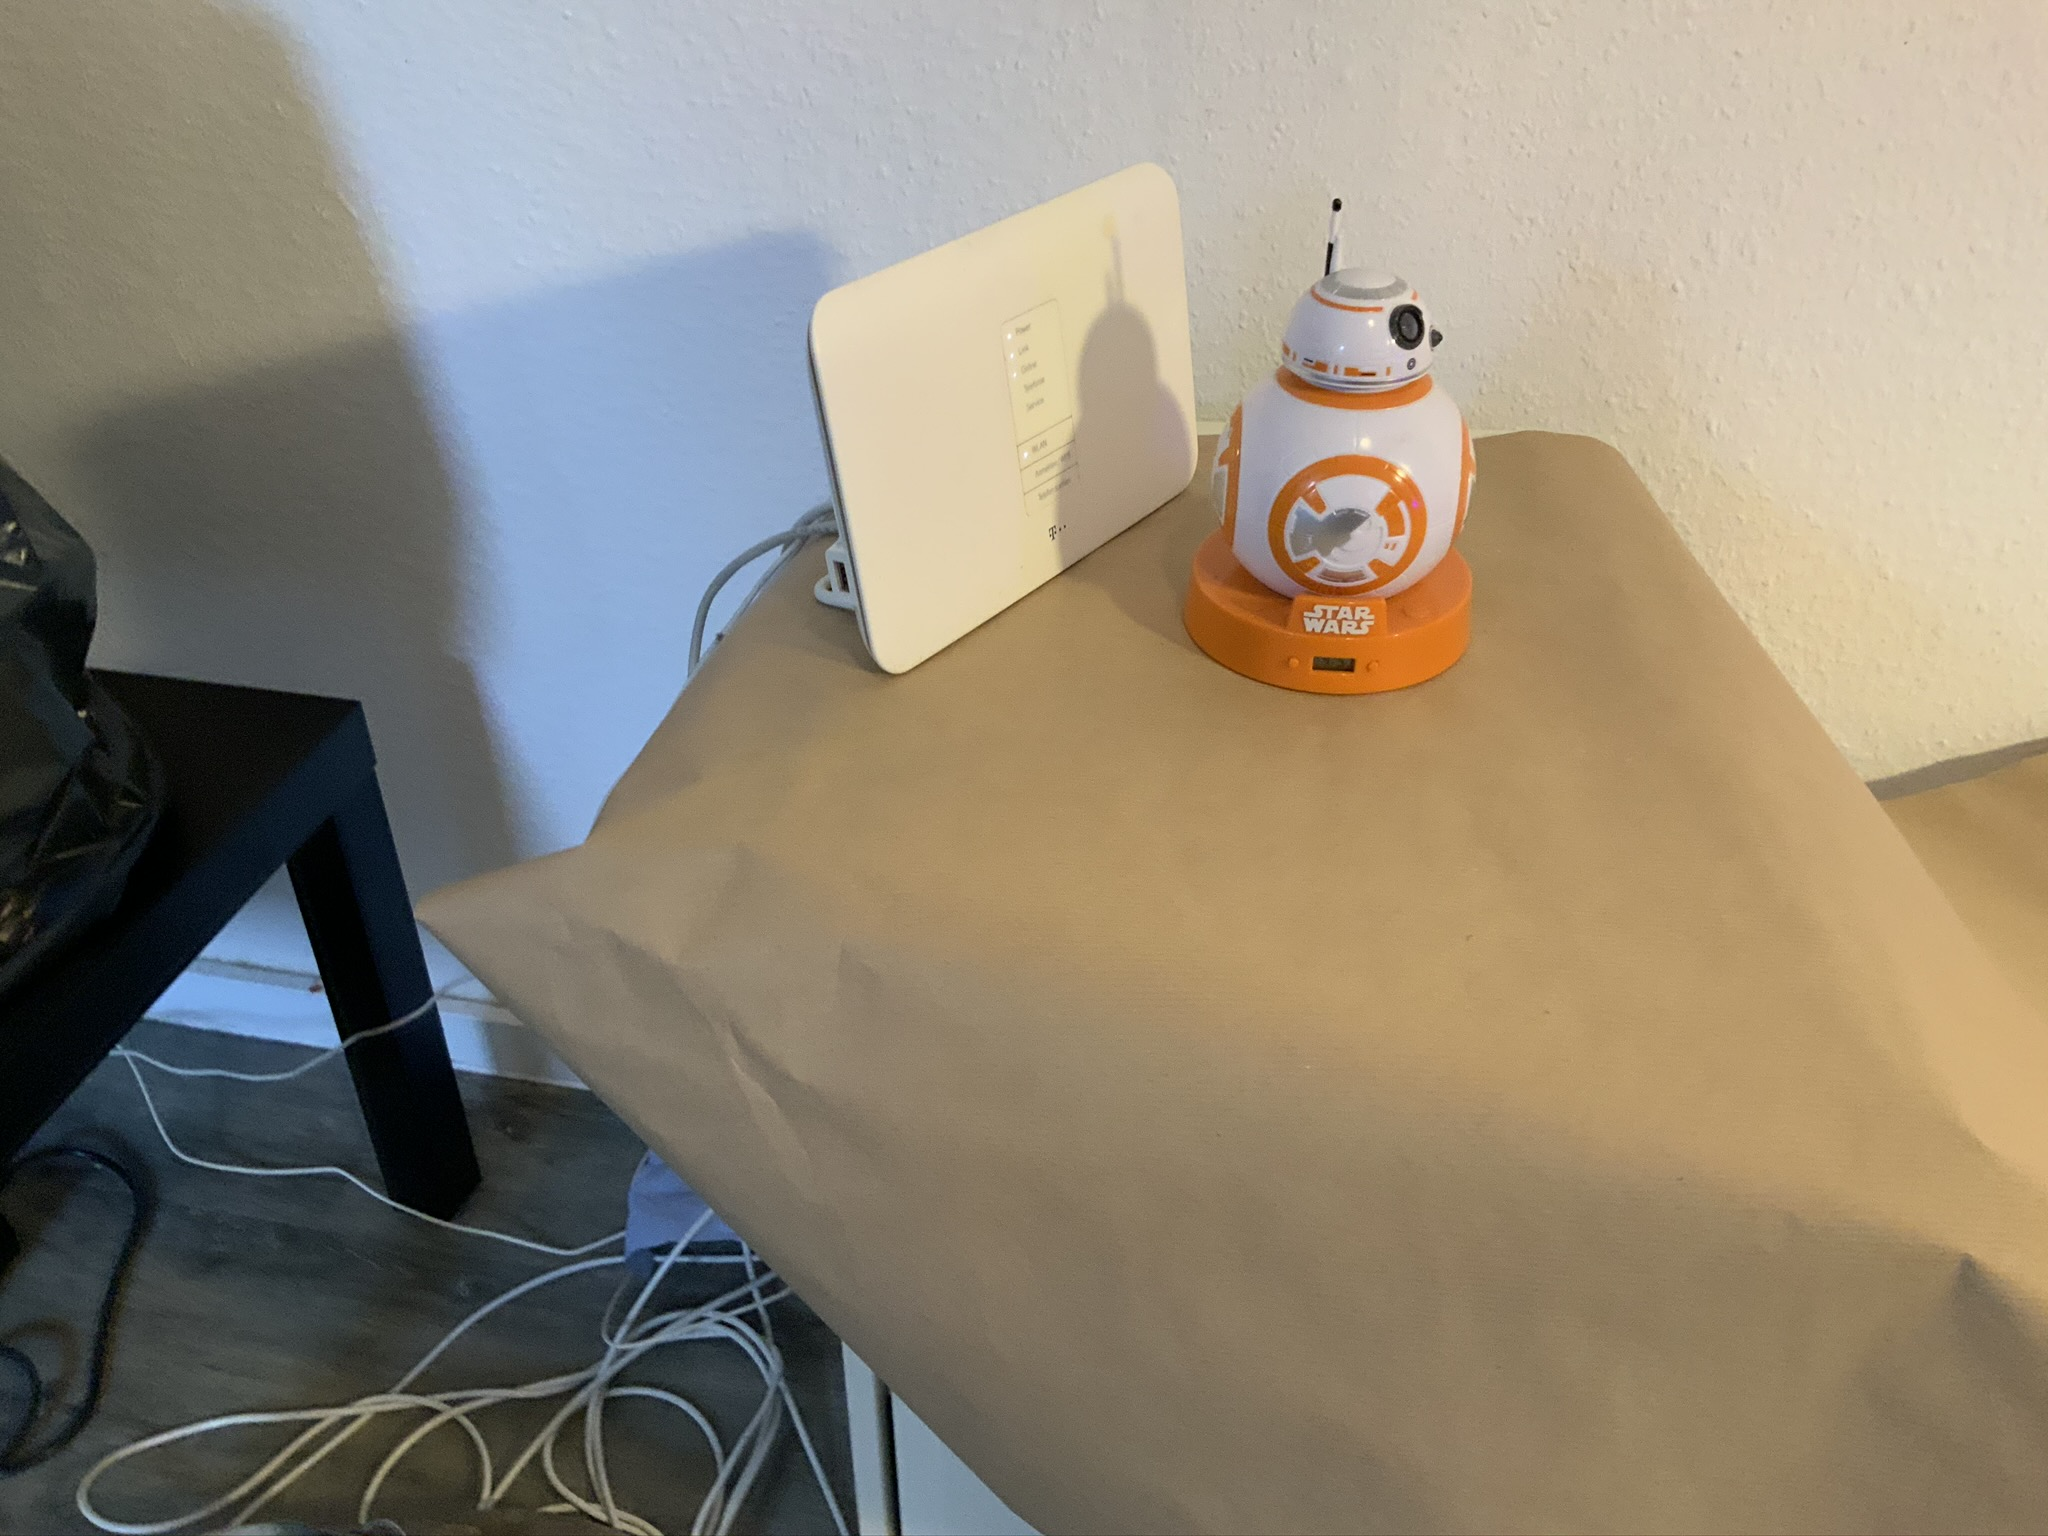router: (801, 152, 1205, 686)
